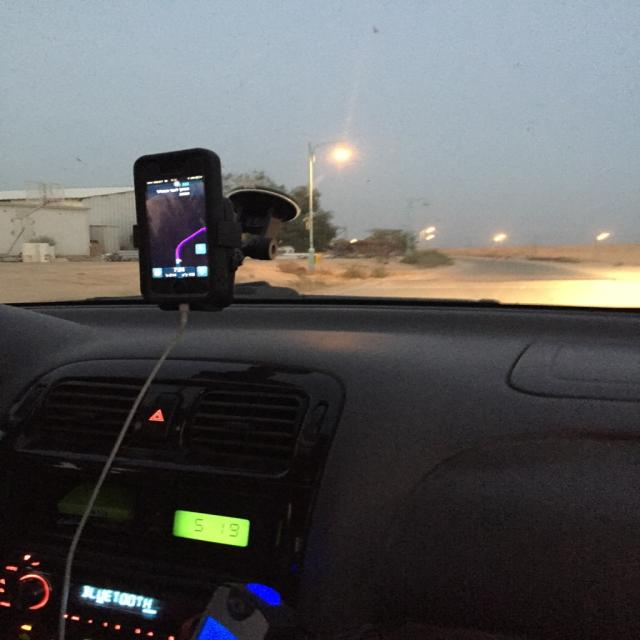Mobile-phone: (130, 150, 256, 304)
